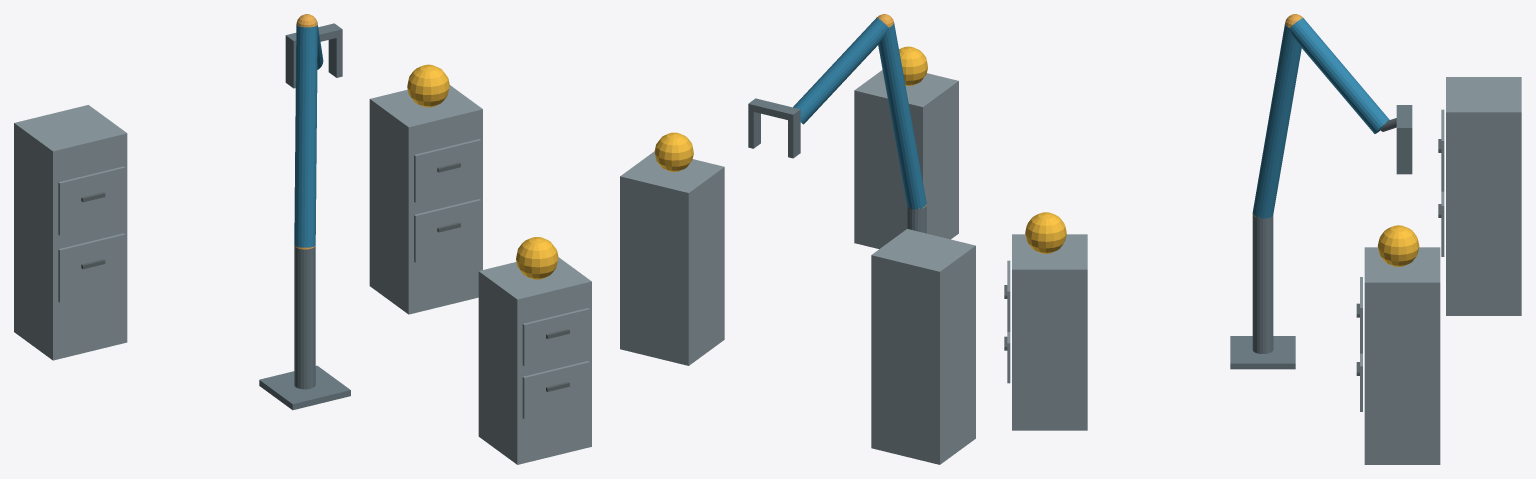
The picture shows the model from 3 angles, left to right: view 1: azimuth 30°, elevation 25°; view 2: azimuth 150°, elevation 25°; view 3: azimuth 270°, elevation 25°; orthographic projection. The views are drawn at different scales.
Visible parts, largest first — view 1: cabinet_3 body, cabinet_2 body, cabinet_1 body, moving link 1, cabinet_3 drawer front.001, cabinet_3 drawer front, cabinet_2 drawer front, cabinet_2 drawer front.001, fixed post, cabinet_1 drawer front.001, cabinet_1 drawer front, pedestal (+2 smaller); view 2: cabinet_3 body, cabinet_2 body, cabinet_1 body, moving link 1, moving link 2, ball ball_2, released ball_1, gripper bridge, gripper finger -1, fixed post, gripper finger 1; view 3: cabinet_3 body, cabinet_2 body, cabinet_1 body, moving link 1, fixed post, moving link 2, pedestal, ball ball_2, released ball_1, gripper finger 1, gripper bridge.
Boxes of the visible parts, left/top/right/bottom form: cabinet_3 body: left=14, top=105, right=127, bottom=360; cabinet_2 body: left=369, top=85, right=482, bottom=314; cabinet_1 body: left=478, top=257, right=591, bottom=464; moving link 1: left=294, top=24, right=317, bottom=247; cabinet_3 drawer front.001: left=58, top=166, right=125, bottom=235; cabinet_3 drawer front: left=58, top=233, right=125, bottom=302; cabinet_2 drawer front: left=414, top=199, right=480, bottom=262; cabinet_2 drawer front.001: left=414, top=139, right=480, bottom=202; fixed post: left=294, top=246, right=315, bottom=389; cabinet_1 drawer front.001: left=522, top=308, right=589, bottom=366; cabinet_1 drawer front: left=522, top=361, right=589, bottom=419; pedestal: left=259, top=365, right=350, bottom=410; cabinet_3 body: left=871, top=229, right=975, bottom=464; cabinet_2 body: left=620, top=151, right=724, bottom=365; cabinet_1 body: left=854, top=70, right=958, bottom=248; moving link 1: left=878, top=22, right=926, bottom=209; moving link 2: left=793, top=17, right=888, bottom=124; ball ball_2: left=654, top=132, right=693, bottom=171; released ball_1: left=899, top=46, right=927, bottom=85; gripper bridge: left=748, top=98, right=800, bottom=121; gripper finger -1: left=788, top=116, right=800, bottom=158; fixed post: left=907, top=206, right=926, bottom=233; gripper finger 1: left=748, top=110, right=760, bottom=148; cabinet_3 body: left=1446, top=77, right=1521, bottom=315; cabinet_2 body: left=1364, top=247, right=1440, bottom=464; cabinet_1 body: left=1012, top=234, right=1087, bottom=430; moving link 1: left=1252, top=23, right=1301, bottom=218; fixed post: left=1252, top=214, right=1273, bottom=353; moving link 2: left=1289, top=18, right=1389, bottom=133; pedestal: left=1230, top=336, right=1295, bottom=369; ball ball_2: left=1377, top=225, right=1419, bottom=266; released ball_1: left=1025, top=212, right=1066, bottom=253; gripper finger 1: left=1396, top=135, right=1412, bottom=174; gripper bridge: left=1396, top=105, right=1412, bottom=135.
Bounding box in the file's own units: 1.67 × 1.48 × 1.98.
